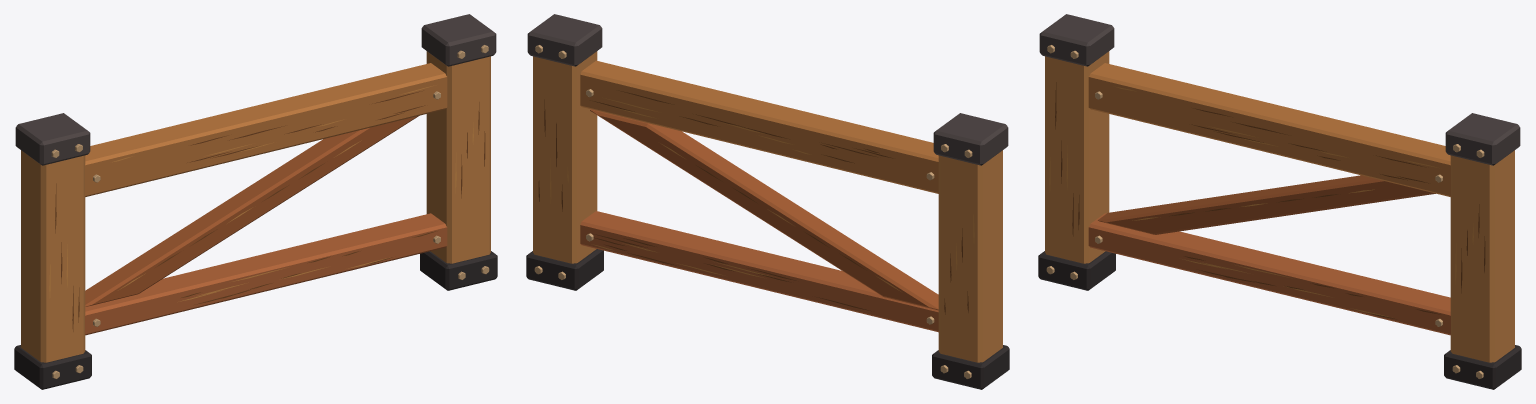
Rendered from wsc-prop-045-lookout-timber-guardrail.glb.
The picture shows the model from 3 angles, left to right: view 1: azimuth 30°, elevation 25°; view 2: azimuth 150°, elevation 25°; view 3: azimuth 330°, elevation 25°; orthographic projection.
Parts seen in each view (by area): view 1: wood3, wood1, wood4, wood2, iron, iron_dark, edge, ridge, rivet; view 2: wood3, wood1, wood4, wood2, iron, iron_dark, edge, ridge, rivet; view 3: wood3, wood1, wood4, wood2, iron, iron_dark, edge, ridge, rivet.
Boxes of the visible parts, x1,y1,x2,y2 form: wood3: [21, 51, 490, 362]; wood1: [85, 63, 447, 196]; wood4: [85, 213, 447, 335]; wood2: [85, 115, 419, 306]; iron: [15, 14, 496, 165]; iron_dark: [14, 251, 497, 389]; edge: [55, 90, 485, 331]; ridge: [49, 85, 473, 302]; rivet: [51, 45, 489, 378]; wood3: [533, 51, 1002, 362]; wood1: [580, 60, 938, 193]; wood4: [580, 211, 938, 332]; wood2: [590, 109, 938, 310]; iron: [527, 14, 1008, 165]; iron_dark: [526, 249, 1009, 389]; edge: [538, 90, 968, 314]; ridge: [550, 97, 974, 291]; rivet: [534, 45, 972, 378]; wood3: [1045, 51, 1514, 362]; wood1: [1088, 63, 1450, 196]; wood4: [1088, 213, 1450, 335]; wood2: [1097, 175, 1435, 234]; iron: [1039, 14, 1520, 165]; iron_dark: [1038, 251, 1521, 389]; edge: [1055, 82, 1485, 319]; ridge: [1049, 86, 1473, 317]; rivet: [1046, 45, 1484, 378].
Bounding box in the file's own units: 2.3 × 1.19 × 0.27.
